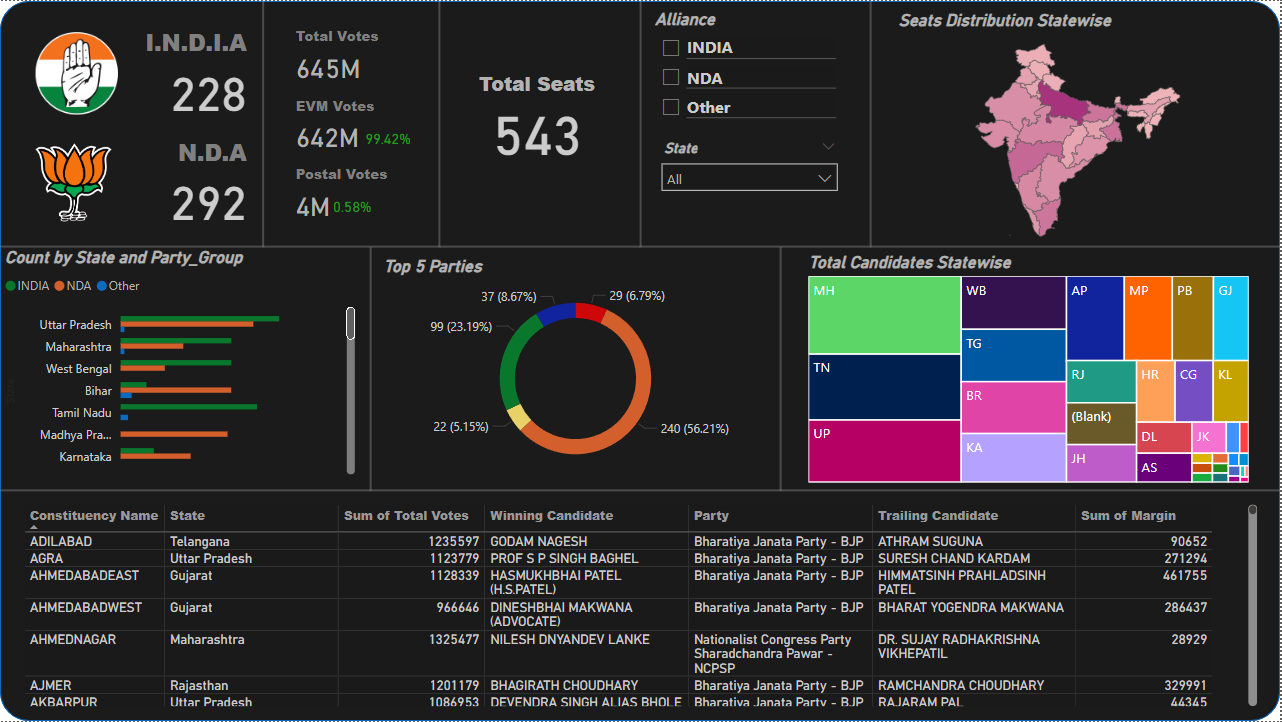

This screenshot's page, from the dashboard's own definition file:
{"tool":"powerbi","page":{"name":"Page 1","canvas":[1280,720],"ordinal":0},"visuals":[{"type":"shape","box":[0,0,1280,720],"z":0},{"type":"slicer","fields":{"Values":["states.State"]},"box":[651.2,133.8,196.2,63.8],"z":1000},{"type":"tableEx","fields":{"Values":["constituencywise_results.Constituency Name","states.State","constituencywise_details.Total Votes","constituencywise_results.Winning Candidate","partywise_results.Party","statewise_results.Trailing Candidate","constituencywise_results.Margin"]},"box":[18.8,498.8,1243.8,211.2],"z":2000},{"type":"slicer","title":"Alliance","fields":{"Values":["partywise_results.Party_Group"]},"box":[650,7.5,191.2,120],"z":3000},{"type":"card","title":"Total Seats","fields":{"Values":["constituencywise_details.Count"]},"box":[440,68.8,193.8,96.2],"z":4000},{"type":"shapeMap","title":"Seats Distribution Statewise","fields":{"Value":["constituencywise_details.Count"],"Category":["states.State"]},"box":[893.8,8.8,368.8,242.5],"z":5000},{"type":"cardVisual","title":"I.N.D.I.A","fields":{"Data":["constituencywise_details.Total Winning Seats INDIA","constituencywise_details.Static Total Winning Seats NDA"]},"box":[18.8,8.8,245,227.5],"z":6000},{"type":"cardVisual","title":"Total Votes","fields":{"Data":["constituencywise_details.Total Vootes","constituencywise_details.EVM v","constituencywise_details.Postal"]},"box":[278.8,8.8,228.8,217.5],"z":7000},{"type":"card","fields":{"Values":["constituencywise_details.evm perc"]},"box":[383.8,117.5,56.2,42.5],"z":8000},{"type":"card","fields":{"Values":["constituencywise_details.post perc"]},"box":[387.5,187.5,52.5,38.8],"z":9000},{"type":"shape","box":[0,226.2,1280,38.8],"z":10000},{"type":"shape","box":[0,470,1280,38.8],"z":11000},{"type":"shape","box":[240,0,46.2,246.2],"z":12000},{"type":"shape","box":[416.2,0,46.2,246.2],"z":13000},{"type":"shape","box":[617.5,0,46.2,246.2],"z":14000},{"type":"shape","box":[847.5,0,46.2,246.2],"z":15000},{"type":"shape","box":[347.5,246.2,46.2,243.8],"z":16000},{"type":"shape","box":[757.5,246.2,46.2,243.8],"z":17000},{"type":"clusteredBarChart","fields":{"Category":["states.State"],"Series":["partywise_results.Party_Group"],"Y":["constituencywise_details.Count"]},"box":[0,246.2,360,232.5],"z":18000},{"type":"donutChart","title":"Top 5 Parties ","fields":{"Series":["partywise_results.Party"],"Y":["constituencywise_details.Top 5 Parties"]},"box":[378.8,255,393.8,226.2],"z":19000},{"type":"treemap","title":"Total Candidates Statewise","fields":{"Group":["states.StateCode"],"Values":["constituencywise_details.cansum"]},"box":[803.8,251.2,450,235],"z":20000},{"type":"shape","box":[356.2,123.8,46.2,28.8],"z":20001},{"type":"shape","box":[357.5,193.8,46.2,28.8],"z":20002}]}

Visuals, with their boxes in screenshot pixels (x1, y1, x2, y2), scaled from the page's 1280x720 canvas onto the 1282x722 screenshot:
shape: <region>0, 0, 1281, 721</region>
slicer - states.State: <region>652, 134, 849, 198</region>
tableEx - constituencywise_results.Constituency Name x states.State: <region>19, 500, 1265, 712</region>
"Alliance" slicer: <region>651, 8, 843, 128</region>
"Total Seats" card: <region>441, 69, 635, 165</region>
"Seats Distribution Statewise" shapeMap: <region>895, 9, 1265, 252</region>
"I.N.D.I.A" cardVisual: <region>19, 9, 264, 237</region>
"Total Votes" cardVisual: <region>279, 9, 508, 227</region>
card - constituencywise_details.evm perc: <region>384, 118, 441, 160</region>
card - constituencywise_details.post perc: <region>388, 188, 441, 227</region>
shape: <region>0, 227, 1281, 266</region>
shape: <region>0, 471, 1281, 510</region>
shape: <region>240, 0, 287, 247</region>
shape: <region>417, 0, 463, 247</region>
shape: <region>618, 0, 665, 247</region>
shape: <region>849, 0, 895, 247</region>
shape: <region>348, 247, 394, 491</region>
shape: <region>759, 247, 805, 491</region>
clusteredBarChart - states.State x partywise_results.Party_Group: <region>0, 247, 361, 480</region>
"Top 5 Parties " donutChart: <region>379, 256, 774, 483</region>
"Total Candidates Statewise" treemap: <region>805, 252, 1256, 488</region>
shape: <region>357, 124, 403, 153</region>
shape: <region>358, 194, 404, 223</region>
